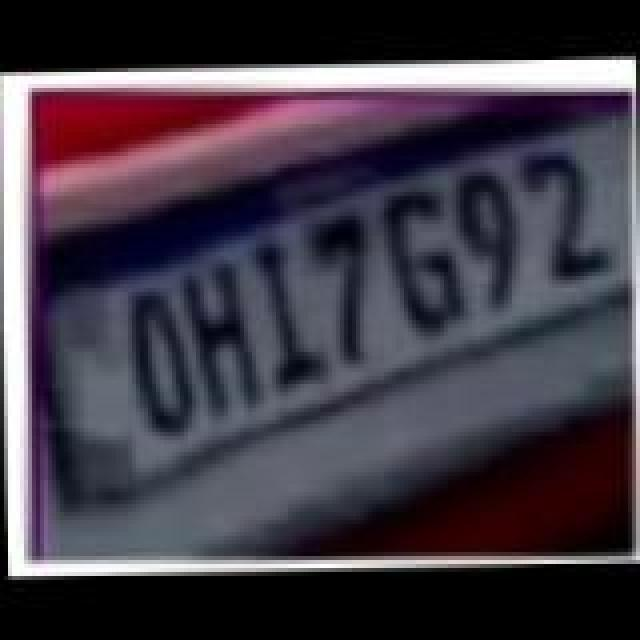2: (518, 154, 610, 286)
7: (312, 216, 388, 372)
9: (454, 174, 530, 314)
G: (384, 190, 468, 338)
H: (180, 260, 264, 420)
I: (254, 246, 326, 398)
O: (126, 290, 198, 442)
